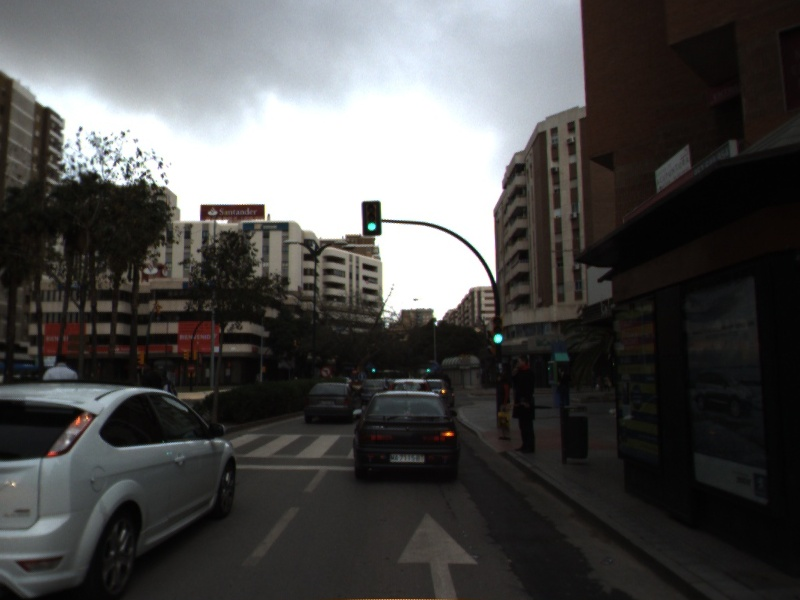STRAIGHT: (393, 509, 482, 600)
